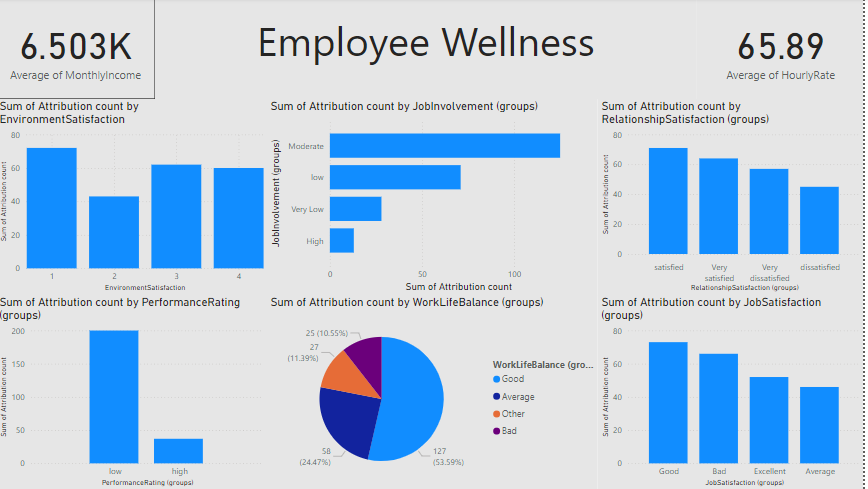

What the dashboard file says about the page in this screenshot:
{"tool":"powerbi","page":{"name":"Employee Wellness","canvas":[1280,720],"ordinal":4},"visuals":[{"type":"card","fields":{"Values":["Avg(HR-Employee-Attrition (2).MonthlyIncome)"]},"box":[10.2,0,232.7,147.8],"z":0},{"type":"card","fields":{"Values":["Avg(HR-Employee-Attrition (2).HourlyRate)"]},"box":[1036.1,0,244.4,147.8],"z":1000},{"type":"textbox","box":[242.9,0,793.2,147.8],"z":2000},{"type":"clusteredColumnChart","fields":{"Category":["HR-Employee-Attrition (2).EnvironmentSatisfaction"],"Y":["Sum(HR-Employee-Attrition (2).Attribution count)"]},"box":[10.2,147.8,396.6,286.8],"z":3000},{"type":"barChart","fields":{"Y":["Sum(HR-Employee-Attrition (2).Attribution count)"],"Category":["HR-Employee-Attrition (2).JobInvolvement (groups)","HR-Employee-Attrition (2).JobInvolvement"]},"box":[406.8,147.8,484.4,286.8],"z":4000},{"type":"columnChart","fields":{"Category":["HR-Employee-Attrition (2).RelationshipSatisfaction (groups)"],"Y":["Sum(HR-Employee-Attrition (2).Attribution count)"]},"box":[891.2,147.8,389.3,286.8],"z":5000},{"type":"columnChart","fields":{"Category":["HR-Employee-Attrition (2).PerformanceRating (groups)"],"Y":["Sum(HR-Employee-Attrition (2).Attribution count)"]},"box":[10.2,434.6,396.6,285.4],"z":6000},{"type":"pieChart","fields":{"Category":["HR-Employee-Attrition (2).WorkLifeBalance (groups)"],"Y":["Sum(HR-Employee-Attrition (2).Attribution count)"]},"box":[406.8,434.6,484.4,285.4],"z":7000},{"type":"clusteredColumnChart","fields":{"Y":["Sum(HR-Employee-Attrition (2).Attribution count)"],"Category":["HR-Employee-Attrition (2).JobSatisfaction (groups)"]},"box":[891.2,434.6,389.3,285.4],"z":8000}]}

Visuals, with their boxes in screenshot pixels (x1, y1, x2, y2), scaled from the page's 1280x720 canvas onto the 868x489 screenshot:
card - Avg(HR-Employee-Attrition (2).MonthlyIncome): detection(7, 0, 165, 100)
card - Avg(HR-Employee-Attrition (2).HourlyRate): detection(703, 0, 867, 100)
textbox: detection(165, 0, 703, 100)
clusteredColumnChart - HR-Employee-Attrition (2).EnvironmentSatisfaction x Sum(HR-Employee-Attrition (2).Attribution count): detection(7, 100, 276, 295)
barChart - Sum(HR-Employee-Attrition (2).Attribution count) x HR-Employee-Attrition (2).JobInvolvement (groups): detection(276, 100, 604, 295)
columnChart - HR-Employee-Attrition (2).RelationshipSatisfaction (groups) x Sum(HR-Employee-Attrition (2).Attribution count): detection(604, 100, 867, 295)
columnChart - HR-Employee-Attrition (2).PerformanceRating (groups) x Sum(HR-Employee-Attrition (2).Attribution count): detection(7, 295, 276, 488)
pieChart - HR-Employee-Attrition (2).WorkLifeBalance (groups) x Sum(HR-Employee-Attrition (2).Attribution count): detection(276, 295, 604, 488)
clusteredColumnChart - Sum(HR-Employee-Attrition (2).Attribution count) x HR-Employee-Attrition (2).JobSatisfaction (groups): detection(604, 295, 867, 488)
